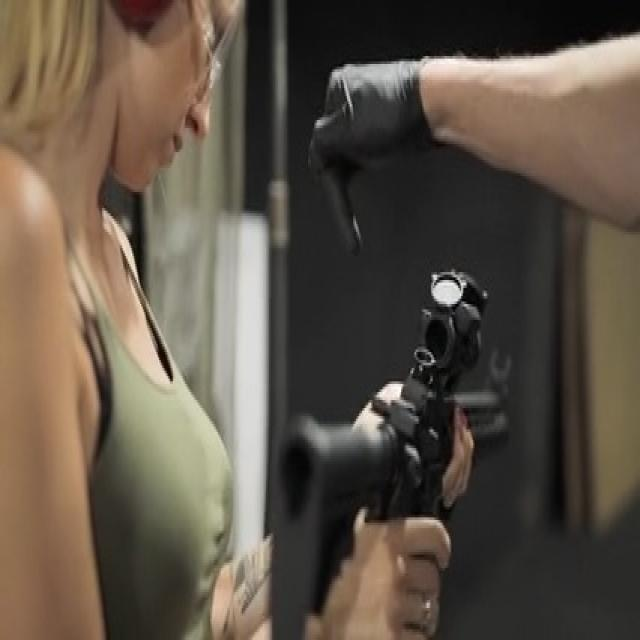Gun_Holder: (258, 266, 631, 640)
Person: (1, 0, 442, 640)
